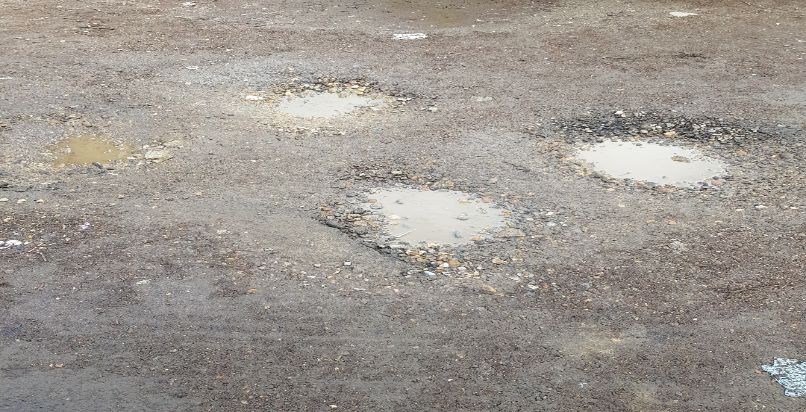pothole: (312, 159, 531, 272), (536, 109, 772, 196), (260, 73, 413, 126)
